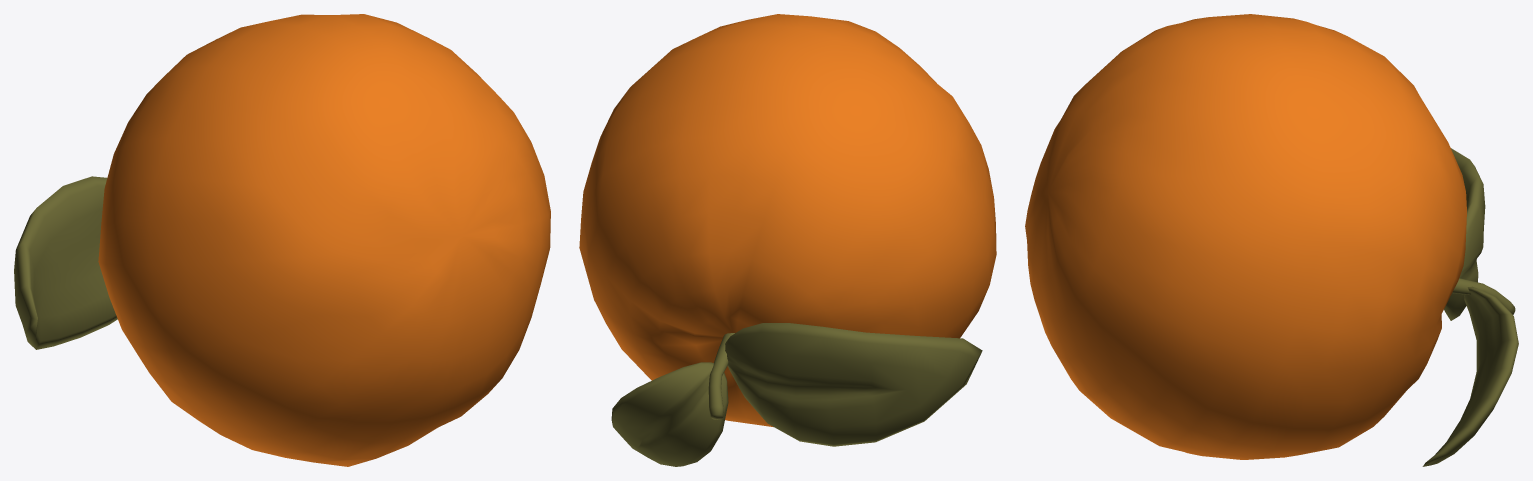
File: orange.glb
The picture shows the model from 3 angles, left to right: view 1: azimuth 30°, elevation 25°; view 2: azimuth 150°, elevation 25°; view 3: azimuth 270°, elevation 25°; orthographic projection. The views are drawn at different scales.
Parts seen in each view (by area): view 1: Orange; view 2: Orange; view 3: Orange.
Part boxes in pixels (box(x1,y1,x2,y2)): Orange: box(14, 14, 550, 466); Orange: box(579, 14, 996, 466); Orange: box(1025, 14, 1518, 466).
Bounding box in the file's own units: 0.1135 × 0.1004 × 0.1093.
